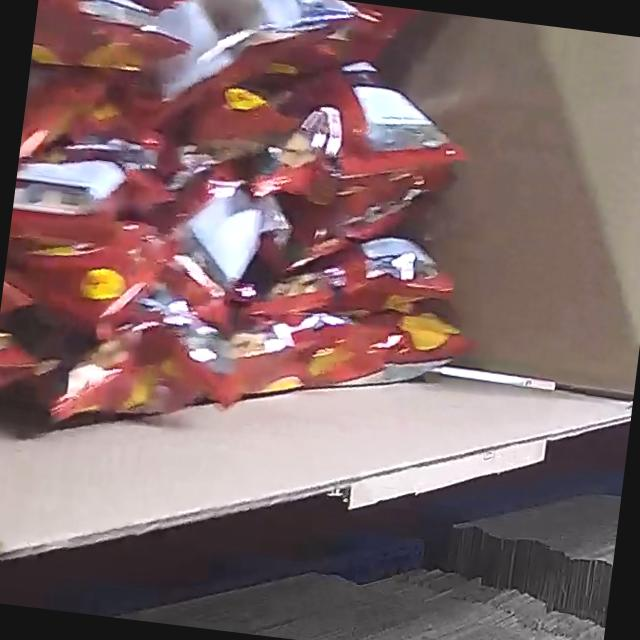masala: (0, 0, 514, 478)
